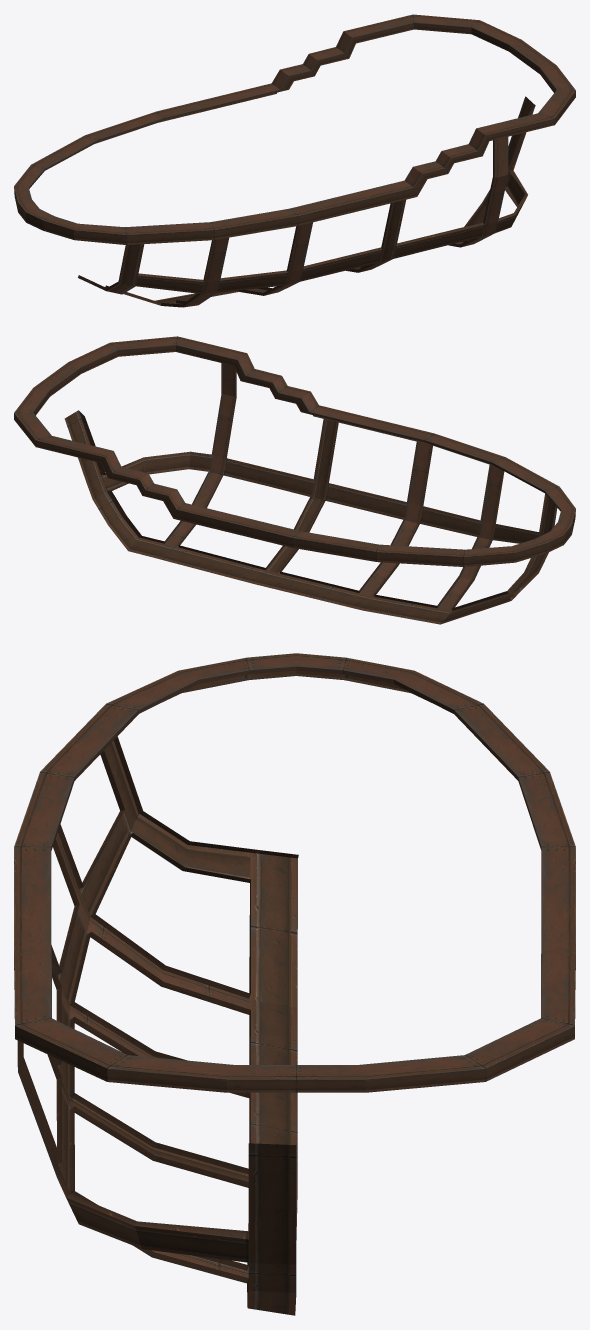
The model's file is sn_jixie_feichuankuangjia_001.FBX.
3 renders of one model, top to bottom at view 1: azimuth 30°, elevation 25°; view 2: azimuth 150°, elevation 25°; view 3: azimuth 270°, elevation 25°, orthographic. The views are drawn at different scales.
Visible parts, largest first — view 1: sn_jixie_feichuankuangjia_001; view 2: sn_jixie_feichuankuangjia_001; view 3: sn_jixie_feichuankuangjia_001.
Part boxes in pixels (box(x1,y1,x2,y2)): sn_jixie_feichuankuangjia_001: box(14, 14, 575, 307); sn_jixie_feichuankuangjia_001: box(14, 336, 575, 624); sn_jixie_feichuankuangjia_001: box(14, 653, 575, 1315).
Size of the model in its own units: 28.38 by 13.64 by 8.41.
